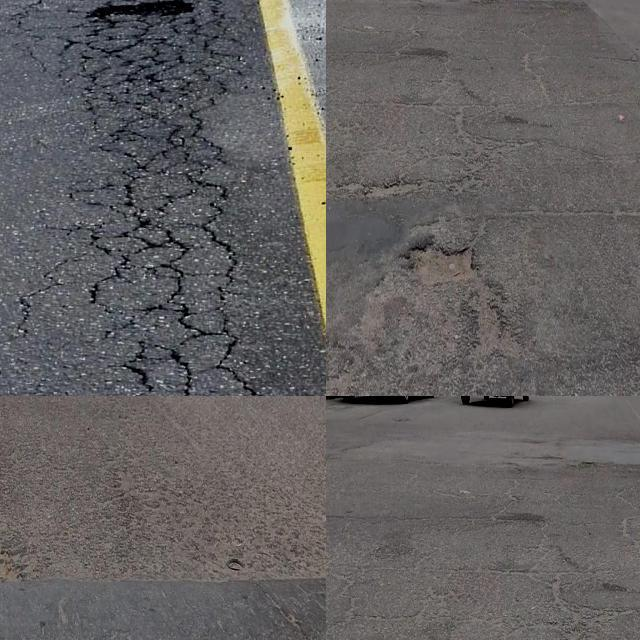Pothole: (406, 242, 477, 289), (89, 0, 195, 18)
